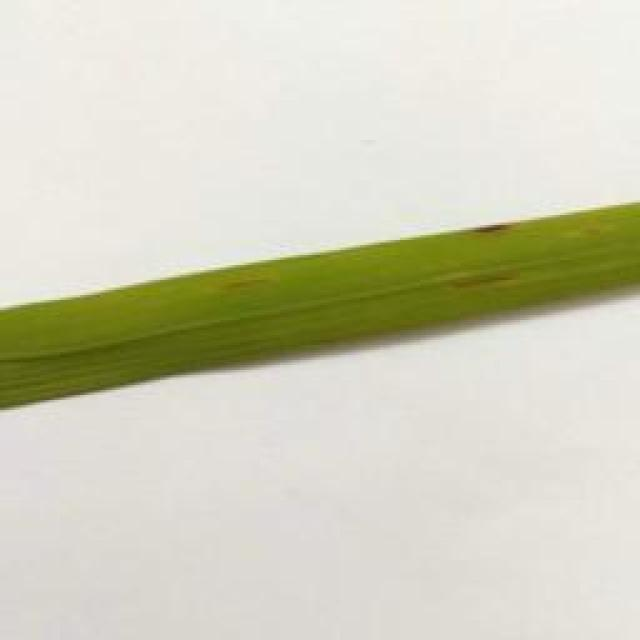Brown_Spot: (448, 264, 520, 294), (461, 218, 519, 243), (218, 272, 275, 291)
